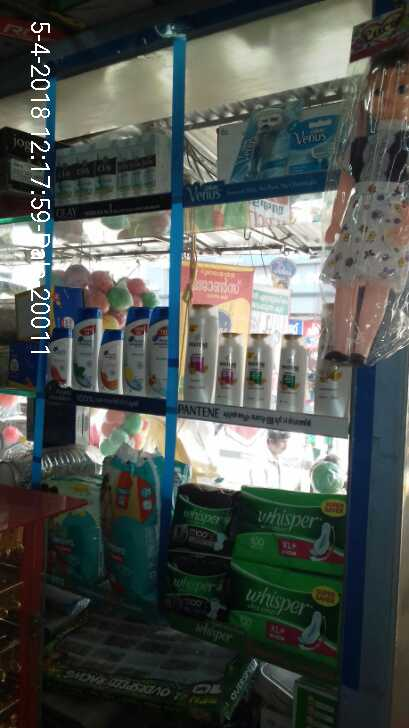venus: (226, 110, 291, 176), (291, 114, 340, 168)
